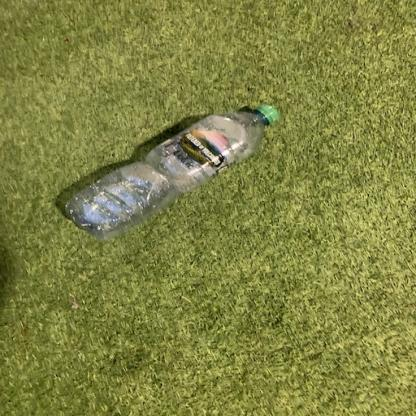trash: (62, 101, 282, 243)
